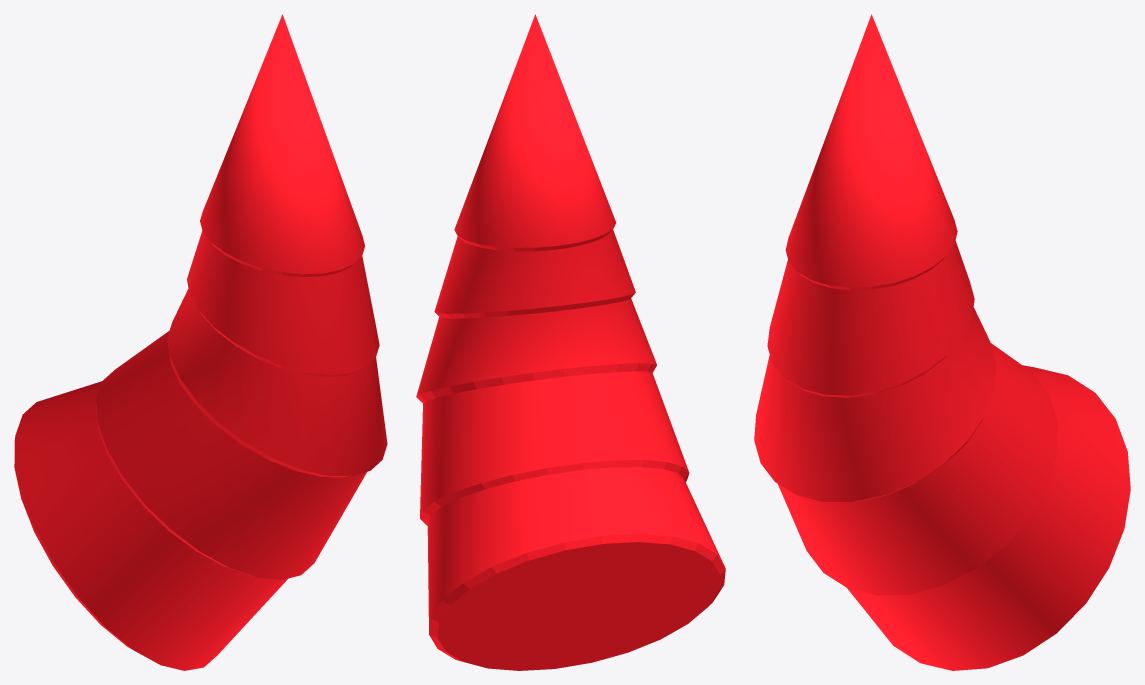
File: Horn.fbx
3 renders of one model, left to right at view 1: azimuth 30°, elevation 25°; view 2: azimuth 150°, elevation 25°; view 3: azimuth 270°, elevation 25°, orthographic. The views are drawn at different scales.
Visible parts, largest first — view 1: Horn; view 2: Horn; view 3: Horn.
Part boxes in pixels (bbox=[...]): Horn: bbox=[14, 14, 387, 670]; Horn: bbox=[416, 14, 725, 670]; Horn: bbox=[754, 14, 1130, 670].
Bounding box in the file's own units: 104 × 204 × 104.
